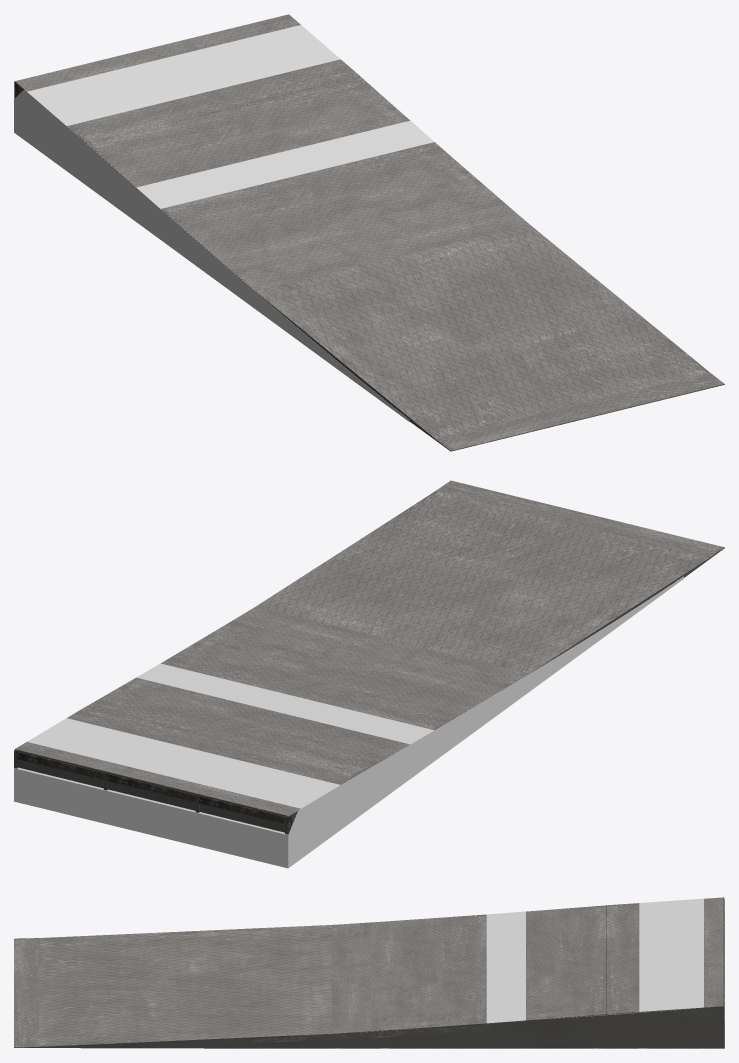
File: landingramp_shallow_long.dae
The picture shows the model from 3 angles, top to bottom: view 1: azimuth 30°, elevation 25°; view 2: azimuth 150°, elevation 25°; view 3: azimuth 270°, elevation 25°; orthographic projection. The views are drawn at different scales.
Visible parts, largest first — view 1: landingramp_shallow_long_a200, landingramp_shallow_long_a020, Colmesh-1; view 2: landingramp_shallow_long_a200, landingramp_shallow_long_a020, Colmesh-1; view 3: landingramp_shallow_long_a020, landingramp_shallow_long_a200, Colmesh-1.
Boxes of the visible parts, box(x1,y1,x2,y2) form: landingramp_shallow_long_a200: box(14, 14, 724, 451); landingramp_shallow_long_a020: box(15, 82, 709, 447); Colmesh-1: box(14, 25, 433, 421); landingramp_shallow_long_a200: box(14, 480, 724, 834); landingramp_shallow_long_a020: box(15, 491, 718, 832); Colmesh-1: box(14, 576, 683, 868); landingramp_shallow_long_a020: box(19, 925, 723, 1047); landingramp_shallow_long_a200: box(14, 897, 724, 1048); Colmesh-1: box(80, 898, 724, 1048).
Size of the model in its own units: 4 by 11.04 by 0.7247.
Materials: 1 (1 with a texture image).
